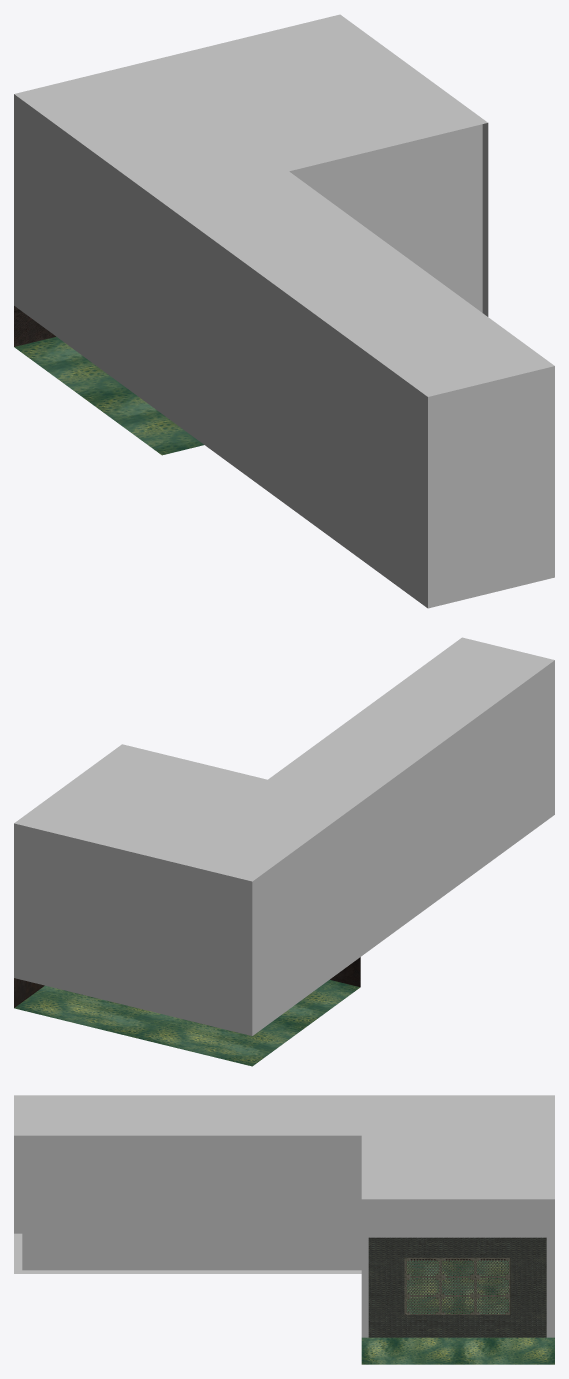
Rendered from sewer_entrance.FBX.
3 renders of one model, top to bottom at view 1: azimuth 30°, elevation 25°; view 2: azimuth 150°, elevation 25°; view 3: azimuth 270°, elevation 25°, orthographic. The views are drawn at different scales.
Parts seen in each view (by area): view 1: sewer_entrance; view 2: sewer_entrance; view 3: sewer_entrance.
Part boxes in pixels (box(x1,y1,x2,y2)): sewer_entrance: box(14, 14, 554, 608); sewer_entrance: box(14, 637, 554, 1066); sewer_entrance: box(14, 1095, 554, 1364).
Bounding box in the file's own units: 451 × 334 × 992.
